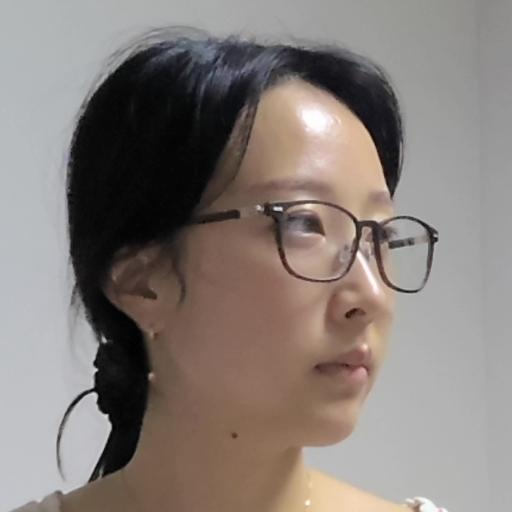no_glasses: (62, 34, 441, 448)
